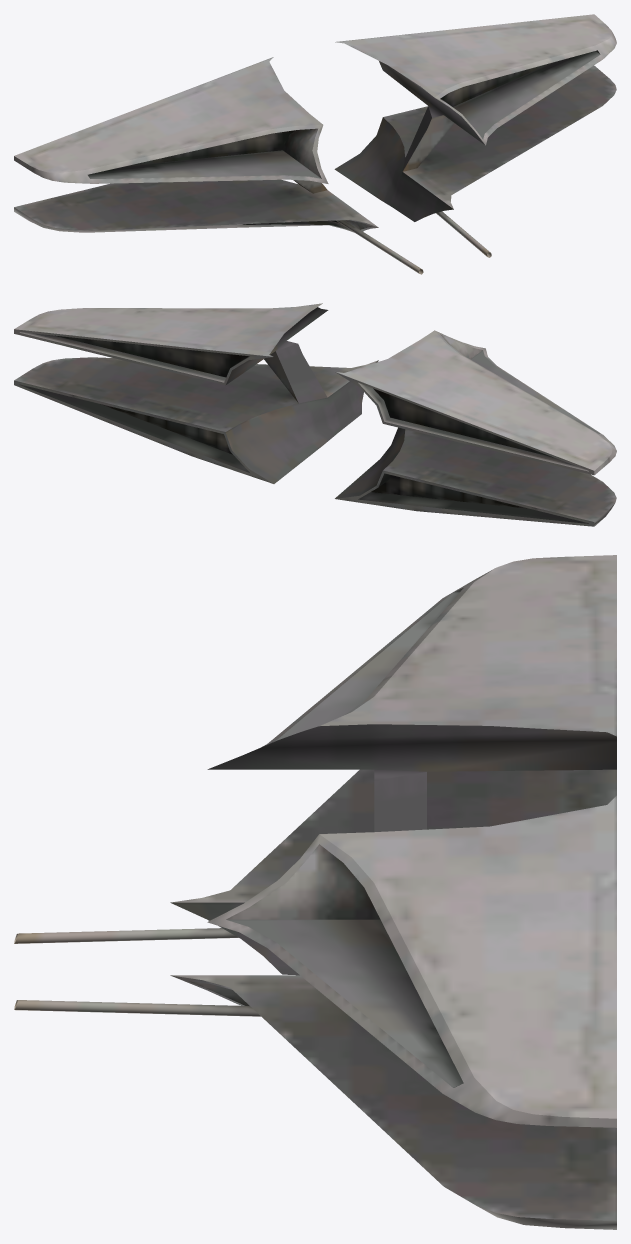
Rendered from hutt_fighter_heavy_struct_s02_l0.fbx.
The picture shows the model from 3 angles, top to bottom: view 1: azimuth 30°, elevation 25°; view 2: azimuth 150°, elevation 25°; view 3: azimuth 270°, elevation 25°; orthographic projection. The views are drawn at different scales.
Visible parts, largest first — view 1: mesh_node; view 2: mesh_node; view 3: mesh_node.
Boxes of the visible parts, x1,y1,x2,y2 form: mesh_node: [14, 14, 616, 274]; mesh_node: [14, 303, 616, 526]; mesh_node: [14, 555, 616, 1229].
Bounding box in the file's own units: 28.24 × 5.92 × 12.76.
